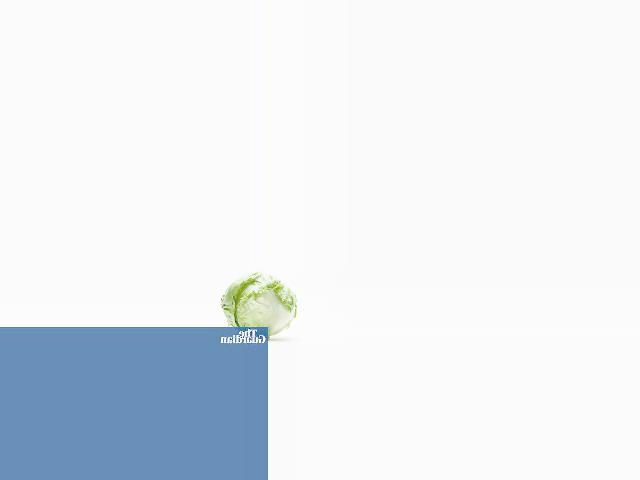lettuce: (222, 268, 296, 335)
